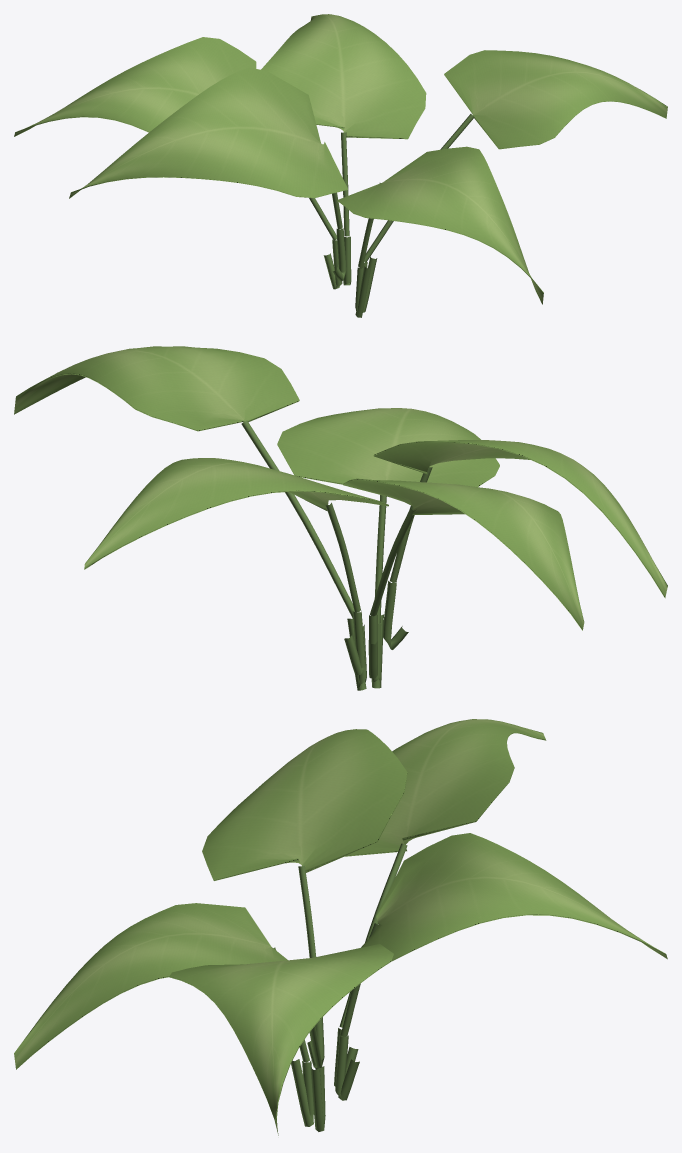
File: syngonium-stage-2.glb
3 views of the same model, one above another, from view 1: azimuth 30°, elevation 25°; view 2: azimuth 150°, elevation 25°; view 3: azimuth 270°, elevation 25° (orthographic). The views are drawn at different scales.
Visible parts, largest first — view 1: Leaf_2, Leaf_1, Leaf_3, Leaf_0, Leaf_4, PlantBranches; view 2: Leaf_3, Leaf_0, Leaf_4, Leaf_1, PlantBranches, Leaf_2; view 3: Leaf_2, Leaf_1, Leaf_3, Leaf_0, Leaf_4, PlantBranches.
Boxes of the visible parts, x1=… form: Leaf_2: x1=69, y1=67, x2=347, y2=198; Leaf_1: x1=261, y1=14, x2=426, y2=139; Leaf_3: x1=444, y1=50, x2=667, y2=149; Leaf_0: x1=337, y1=146, x2=543, y2=304; Leaf_4: x1=14, y1=37, x2=256, y2=136; PlantBranches: x1=309, y1=114, x2=473, y2=317; Leaf_3: x1=14, y1=346, x2=299, y2=431; Leaf_0: x1=277, y1=408, x2=499, y2=487; Leaf_4: x1=343, y1=478, x2=584, y2=630; Leaf_1: x1=84, y1=458, x2=388, y2=569; PlantBranches: x1=241, y1=420, x2=432, y2=690; Leaf_2: x1=373, y1=440, x2=667, y2=598; Leaf_2: x1=202, y1=729, x2=407, y2=880; Leaf_1: x1=361, y1=833, x2=667, y2=961; Leaf_3: x1=169, y1=944, x2=393, y2=1135; Leaf_0: x1=14, y1=903, x2=287, y2=1069; Leaf_4: x1=345, y1=719, x2=546, y2=856; PlantBranches: x1=273, y1=843, x2=407, y2=1131.
Bounding box in the file's own units: 2.03 × 0.8429 × 1.6.
Materials: 2 (1 with a texture image).
